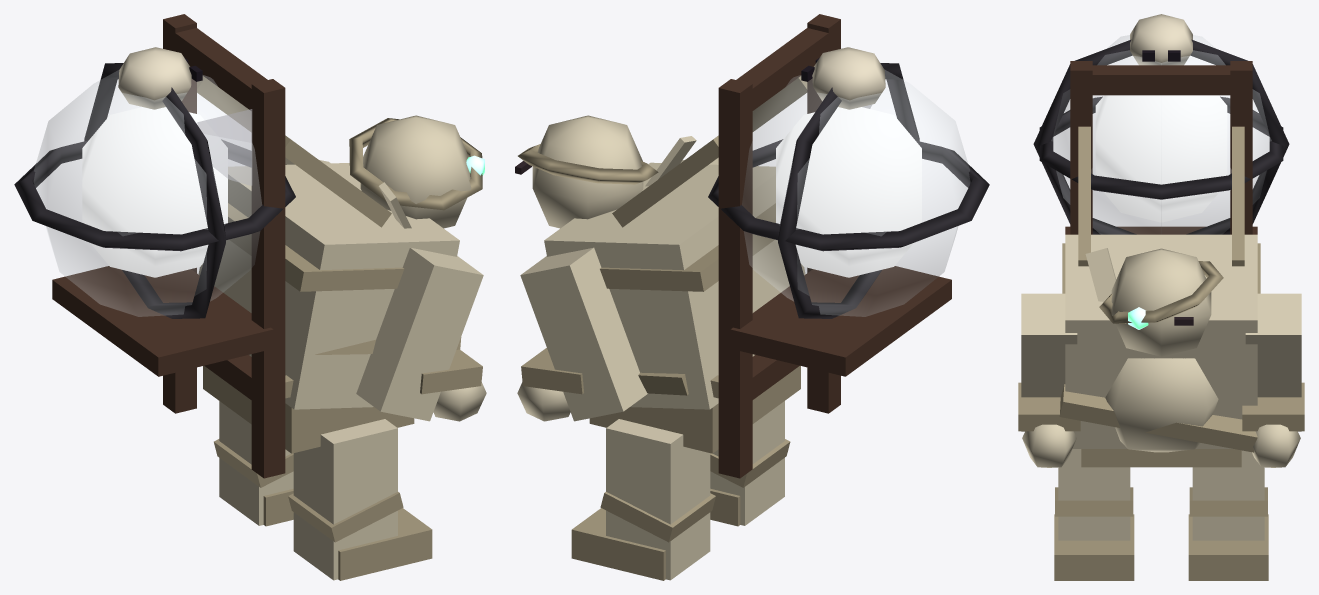
The model's file is enemy_elementCarrier.glb.
The picture shows the model from 3 angles, left to right: view 1: azimuth 30°, elevation 25°; view 2: azimuth 150°, elevation 25°; view 3: azimuth 270°, elevation 25°; orthographic projection. The views are drawn at different scales.
Visible parts, largest first — view 1: vessel_glass, torso, element_core, frame_shelf, frame_post_l, arm_l_mesh, leg_l_mesh, head, vessel_band_h, vessel_band_v, hips, frame_bar_top (+15 smaller); view 2: vessel_glass, torso, element_core, frame_shelf, frame_post_r, arm_r_mesh, leg_r_mesh, head, vessel_band_h, vessel_band_v, hips, frame_bar_top (+16 smaller); view 3: vessel_glass, torso, element_core, belly, head, vessel_band_v, arm_r_mesh, arm_l_mesh, leg_l_mesh, leg_r_mesh, frame_bar_top, vessel_band_h (+19 smaller).
Part boxes in pixels (box(x1,y1,x2,y2)): vessel_glass: box(34, 70, 261, 316); torso: box(198, 163, 459, 409); element_core: box(82, 107, 227, 277); frame_shelf: box(52, 266, 273, 376); frame_post_l: box(251, 79, 285, 478); arm_l_mesh: box(356, 247, 483, 421); leg_l_mesh: box(293, 419, 397, 580); head: box(360, 115, 471, 228); vessel_band_h: box(14, 139, 295, 251); vessel_band_v: box(84, 63, 225, 318); hips: box(203, 366, 414, 453); frame_bar_top: box(163, 24, 285, 119); vessel_glass: box(742, 70, 969, 316); torso: box(544, 162, 805, 409); element_core: box(776, 107, 921, 277); frame_shelf: box(730, 266, 951, 376); frame_post_r: box(718, 79, 752, 478); arm_r_mesh: box(520, 247, 647, 421); leg_r_mesh: box(606, 419, 710, 580); head: box(532, 115, 643, 228); vessel_band_h: box(708, 139, 989, 251); vessel_band_v: box(778, 63, 919, 318); hips: box(589, 365, 800, 453); frame_bar_top: box(718, 28, 840, 119); vessel_glass: box(1051, 35, 1271, 234); torso: box(1065, 234, 1257, 448); element_core: box(1095, 95, 1227, 222); belly: box(1105, 358, 1218, 452); head: box(1111, 248, 1211, 356); vessel_band_v: box(1033, 39, 1289, 234); arm_r_mesh: box(1245, 293, 1301, 431); arm_l_mesh: box(1021, 293, 1077, 431); leg_l_mesh: box(1058, 449, 1130, 540); leg_r_mesh: box(1192, 450, 1264, 540); frame_bar_top: box(1071, 65, 1249, 95); vessel_band_h: box(1039, 96, 1283, 199).
Size of the model in its own units: 0.2908 by 0.3218 by 0.179.
